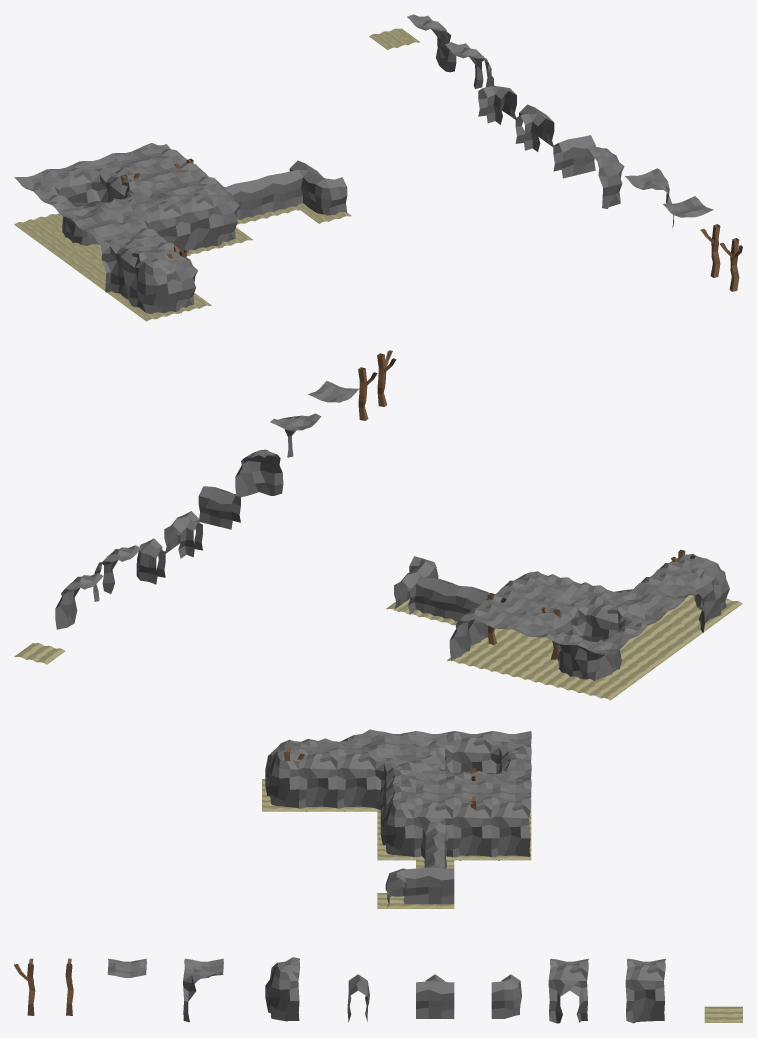
Rendered from Modulair asset pack.fbx.
3 views of the same model, one above another, from view 1: azimuth 30°, elevation 25°; view 2: azimuth 150°, elevation 25°; view 3: azimuth 270°, elevation 25° (orthographic).
Parts seen in each view (by area): view 1: Rock Corner.004, Rock Wall.014, Rock Wall.013, Rock Hallway, Rock Wall.008, Rock Hallway Split.004, Rock Wall.012, Rock Hallway Corner, Rock Corner.002, Rock Hallway.001, Rock Corner.001, Rock Corner.003 (+24 smaller); view 2: Rock Corner.002, Rock Hallway, Rock Wall.011, Rock Wall.012, Rock Hallway Corner, Rock Wall.008, Rock Hallway.001, Rock Wall.002, Rock Hallway Split.001, Rock Hallway Split.002, Rock Wall.005, Rock Inner Corner.003 (+24 smaller); view 3: Rock Wall.002, Rock Wall.005, Rock Wall.006, Rock Wall.007, Rock Wall.004, Rock Opening, Rock Corner.002, Rock Opening.001, Rock Corner.001, Rock Corner.003, Rock Wall.010, Rock Hallway Corner (+21 smaller).
Boxes of the visible parts, bbox=[...] form: Rock Corner.004: bbox=[129, 252, 176, 313]; Rock Wall.014: bbox=[170, 187, 218, 255]; Rock Wall.013: bbox=[137, 195, 185, 250]; Rock Hallway: bbox=[553, 135, 595, 178]; Rock Wall.008: bbox=[110, 238, 159, 304]; Rock Hallway Split.004: bbox=[308, 174, 347, 215]; Rock Wall.012: bbox=[47, 161, 95, 206]; Rock Hallway Corner: bbox=[515, 104, 554, 151]; Rock Corner.002: bbox=[587, 146, 624, 208]; Rock Hallway.001: bbox=[258, 171, 295, 214]; Rock Corner.001: bbox=[202, 184, 239, 247]; Rock Corner.003: bbox=[160, 250, 197, 313]; Rock Corner.002: bbox=[235, 449, 283, 496]; Rock Hallway: bbox=[198, 486, 240, 529]; Rock Wall.011: bbox=[583, 595, 633, 641]; Rock Wall.012: bbox=[545, 632, 596, 680]; Rock Hallway Corner: bbox=[164, 511, 202, 558]; Rock Wall.008: bbox=[673, 562, 720, 625]; Rock Hallway.001: bbox=[423, 578, 460, 621]; Rock Wall.002: bbox=[55, 573, 103, 629]; Rock Hallway Split.001: bbox=[394, 567, 429, 614]; Rock Hallway Split.002: bbox=[136, 538, 165, 584]; Rock Wall.005: bbox=[449, 604, 497, 661]; Rock Inner Corner.003: bbox=[550, 588, 600, 638]; Rock Wall.002: bbox=[625, 958, 665, 1023]; Rock Wall.005: bbox=[491, 796, 531, 860]; Rock Wall.006: bbox=[337, 747, 377, 811]; Rock Wall.007: bbox=[298, 747, 338, 811]; Rock Wall.004: bbox=[452, 796, 492, 860]; Rock Opening: bbox=[548, 958, 588, 1023]; Rock Corner.002: bbox=[265, 957, 300, 1021]; Rock Opening.001: bbox=[414, 796, 454, 858]; Rock Corner.001: bbox=[380, 794, 415, 857]; Rock Corner.003: bbox=[265, 745, 300, 808]; Rock Wall.010: bbox=[452, 731, 492, 774]; Rock Hallway Corner: bbox=[416, 974, 454, 1018].
Size of the model in its own units: 30.13 by 3.06 by 37.89.
